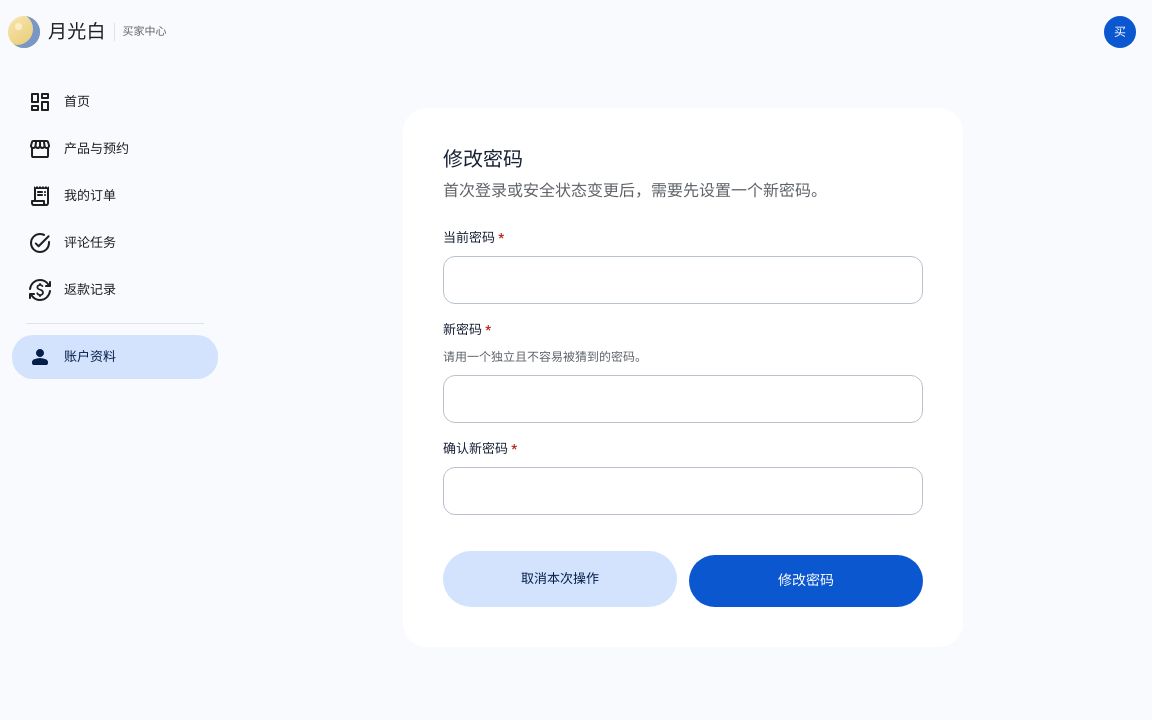
it: Customer password operation controller chain › logs out and blocks both Shells when the password response account type mismatches
Type "current-secret" into the password field labelled "当前密码" at (683, 280), box [443,256,923,304]
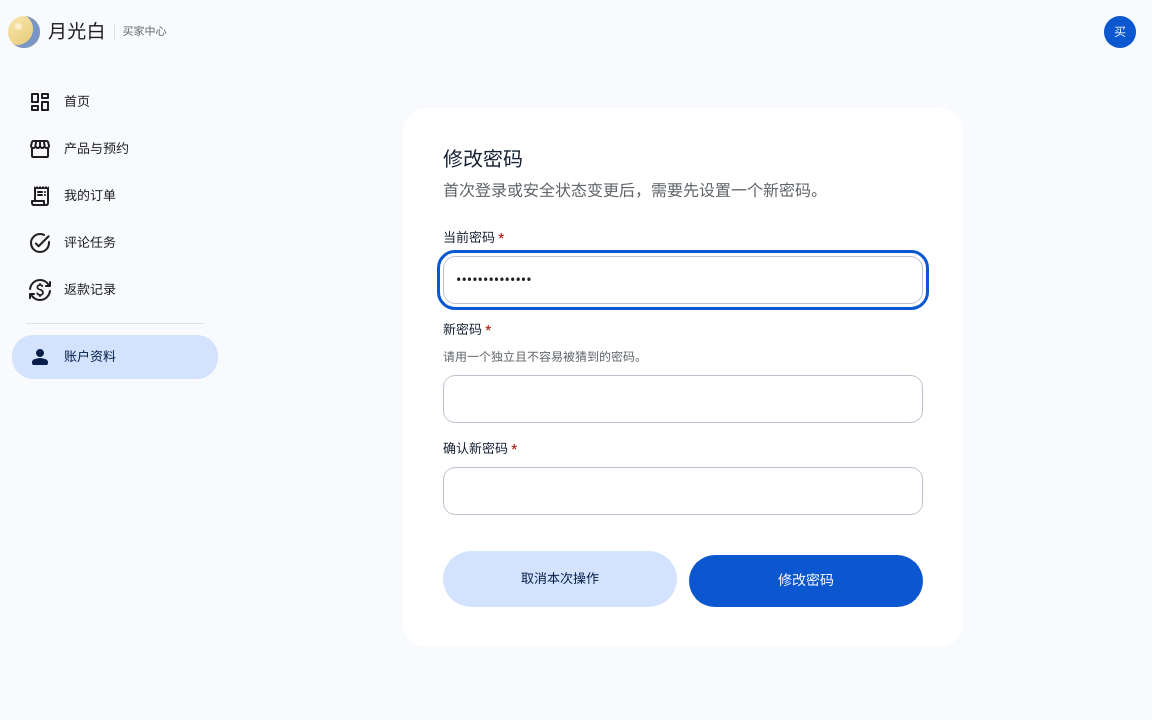
Type "next-secret" into the password field labelled "新密码" at (683, 399), box [443,375,923,423]
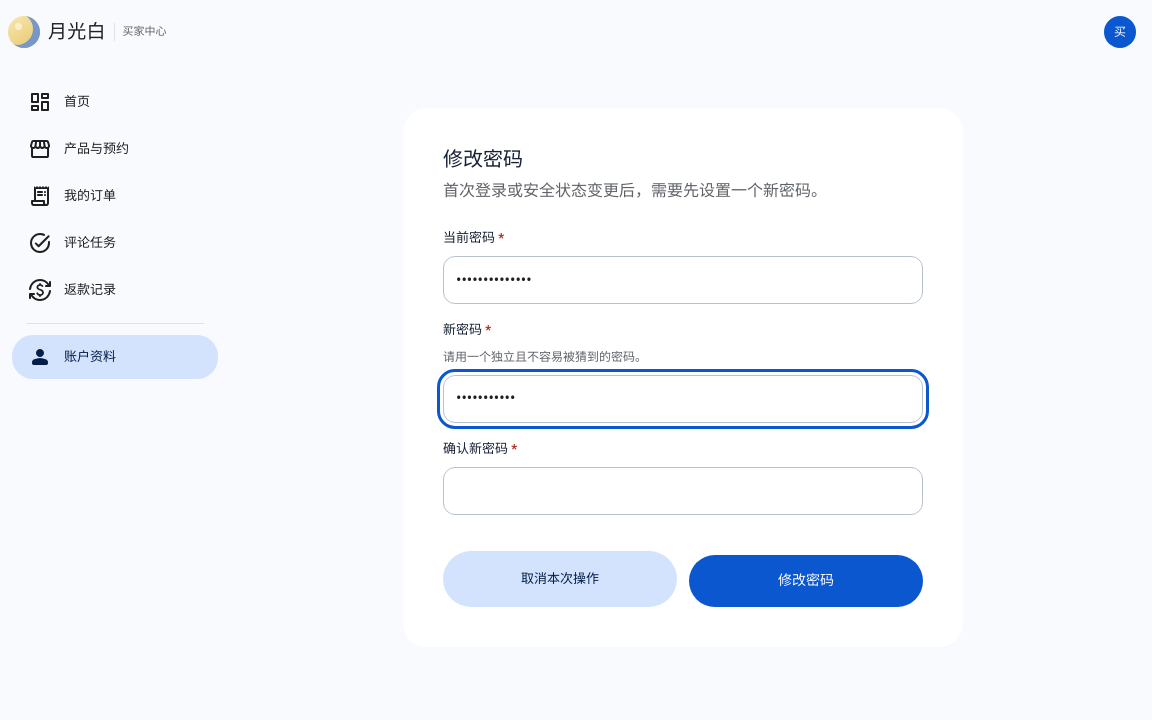
Type "next-secret" into the password field labelled "确认新密码" at (683, 491), box [443,467,923,515]
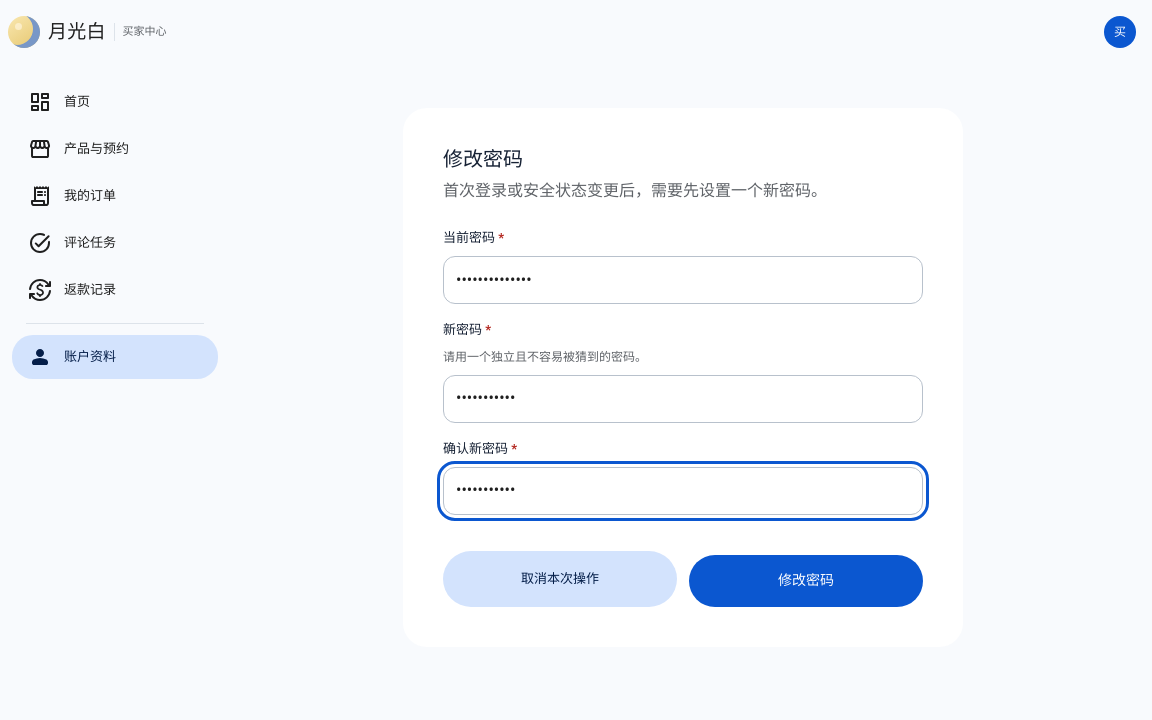
Click the button "修改密码" at (806, 581), box [689,555,923,607]
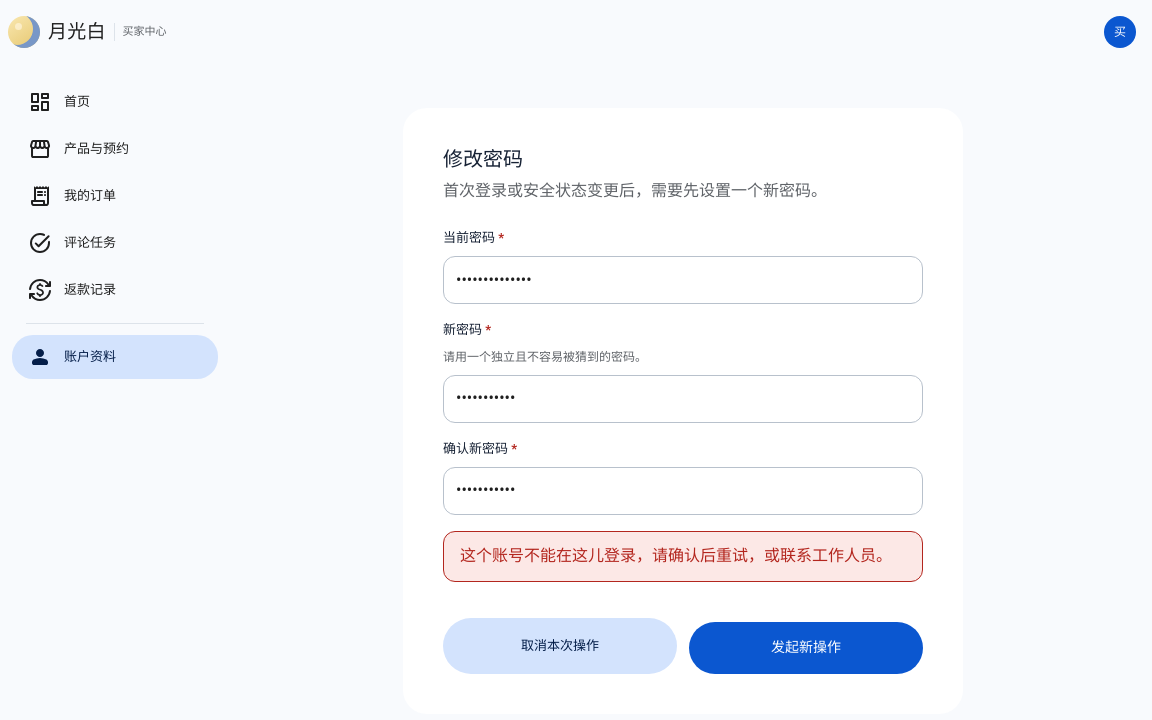
Expected: the message reads "这个账号不能在这儿登录，请确认后重试，或联系工作人员。", [460,546,892,565]
